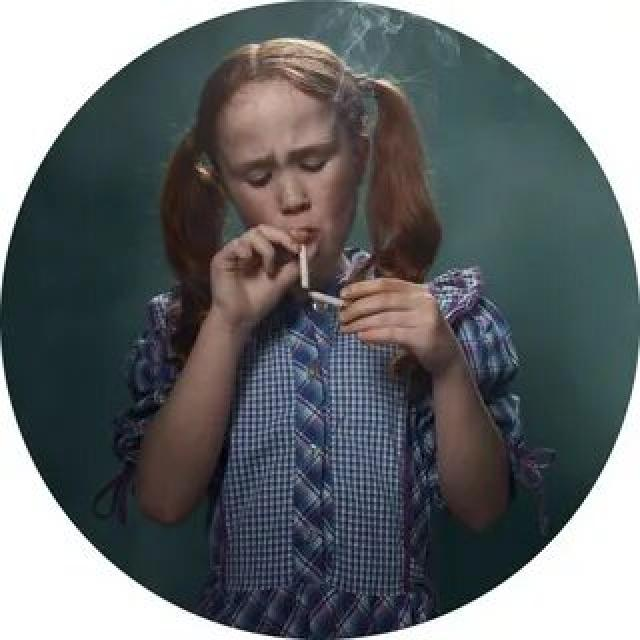cigarette: (304, 286, 352, 314), (292, 236, 310, 292)
